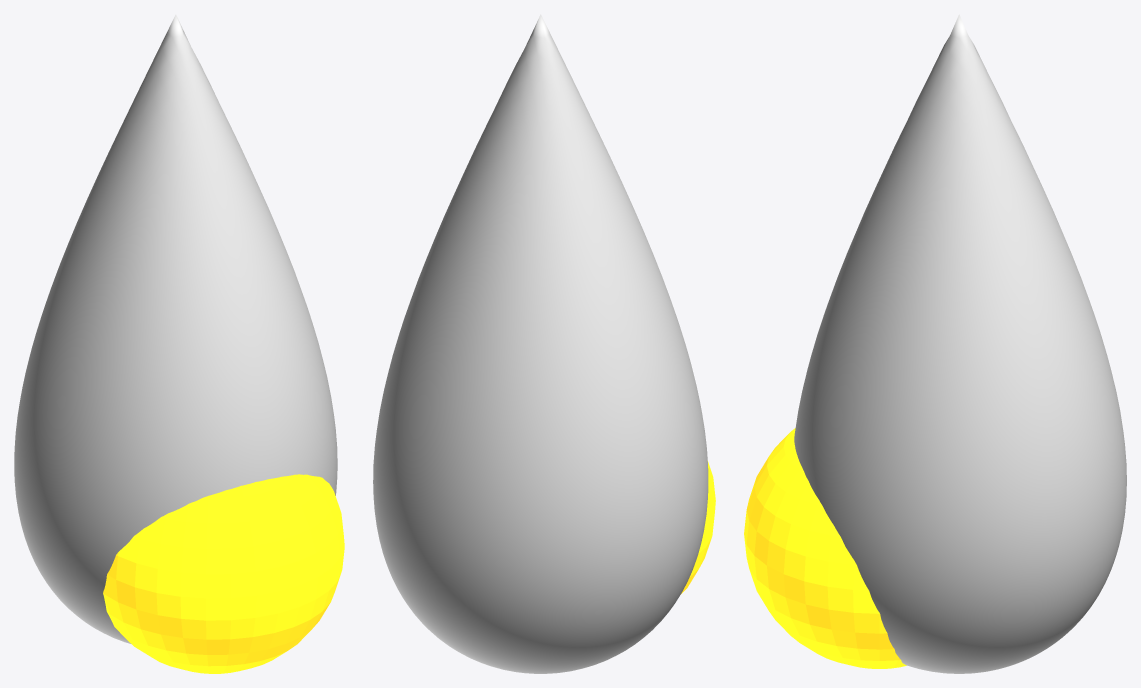
File: FireEmoji.glb
The picture shows the model from 3 angles, left to right: view 1: azimuth 30°, elevation 25°; view 2: azimuth 150°, elevation 25°; view 3: azimuth 270°, elevation 25°; orthographic projection. The views are drawn at different scales.
Parts seen in each view (by area): view 1: Flame_Shell, Flame_Core; view 2: Flame_Shell, Flame_Core; view 3: Flame_Shell, Flame_Core.
Part boxes in pixels (box(x1,y1,x2,y2)): Flame_Shell: box(14, 14, 337, 643); Flame_Core: box(103, 474, 344, 673); Flame_Shell: box(373, 14, 708, 673); Flame_Core: box(681, 461, 715, 593); Flame_Shell: box(794, 14, 1126, 673); Flame_Core: box(744, 428, 906, 668).
Size of the model in its own units: 9.49 by 20.11 by 10.83.
